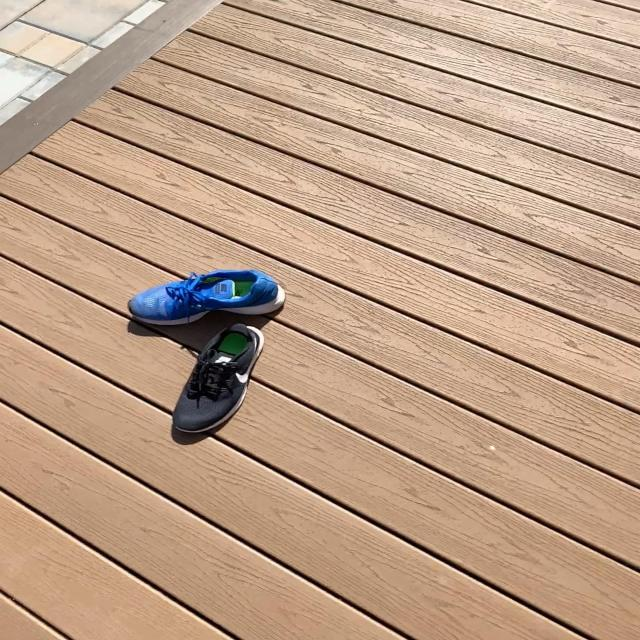shoe: (172, 330, 263, 445), (125, 271, 285, 330)
